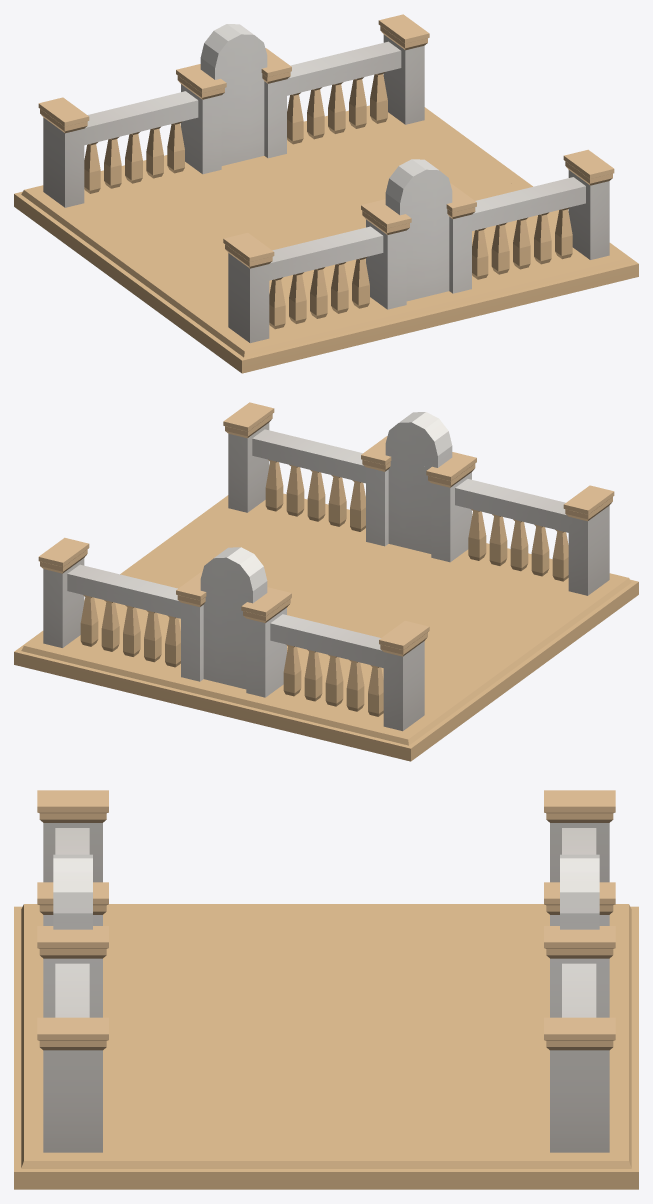
Rendered from Roof Square 01.fbx.
3 renders of one model, top to bottom at view 1: azimuth 30°, elevation 25°; view 2: azimuth 150°, elevation 25°; view 3: azimuth 270°, elevation 25°, orthographic. The views are drawn at different scales.
Parts seen in each view (by area): view 1: Roof Square 01 high, Roof Square 01 low, Roof Square 01; view 2: Roof Square 01 high, Roof Square 01 low, Roof Square 01; view 3: Roof Square 01 low, Roof Square 01 high, Roof Square 01.
Boxes of the visible parts, <box> form: Roof Square 01 high: <box>14,14,638,373</box>; Roof Square 01 low: <box>21,35,631,357</box>; Roof Square 01: <box>84,41,585,280</box>; Roof Square 01 high: <box>14,402,638,761</box>; Roof Square 01 low: <box>21,422,631,745</box>; Roof Square 01: <box>67,429,568,667</box>; Roof Square 01 low: <box>21,904,631,1168</box>; Roof Square 01 high: <box>14,790,638,1189</box>; Roof Square 01: <box>55,828,596,1017</box>.
Size of the model in its own units: 4.24 by 1.48 by 4.22.
Materials: 1 (1 with a texture image).
